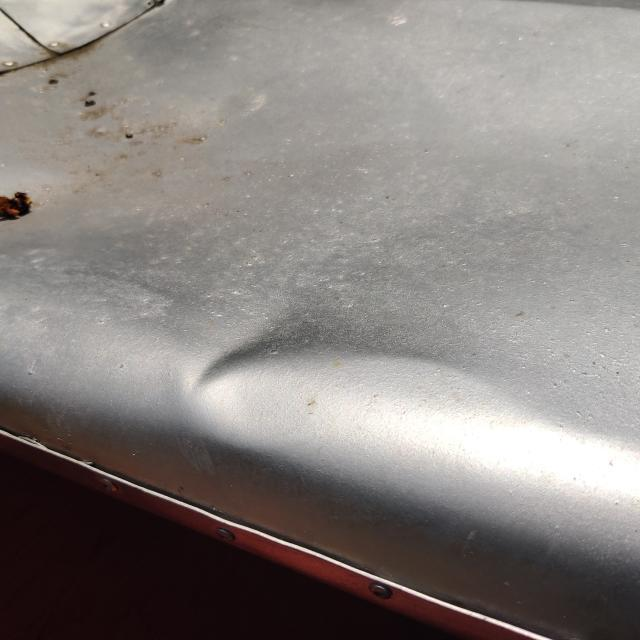dent: (169, 281, 344, 414)
